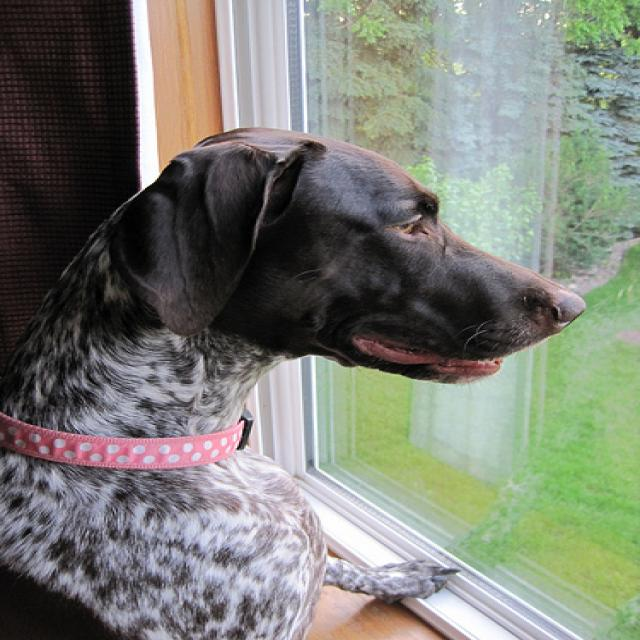dog-german_shorthaired: (2, 116, 609, 637)
